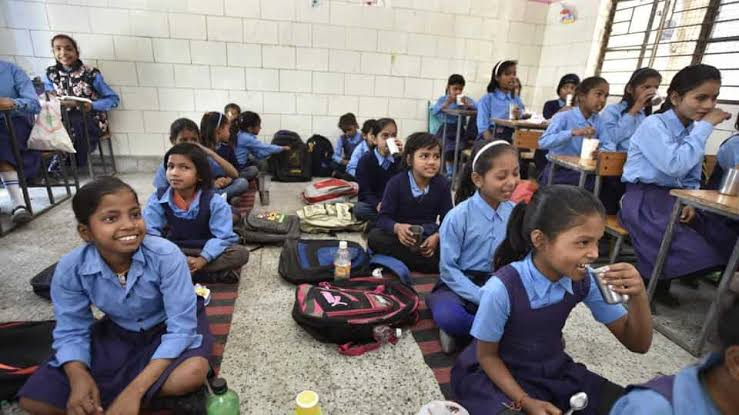student: (523, 177, 611, 282), (66, 178, 153, 251), (671, 64, 736, 128), (470, 137, 526, 206), (398, 127, 446, 184), (160, 145, 212, 195), (232, 109, 282, 161), (570, 71, 614, 116), (626, 66, 666, 113), (164, 116, 204, 159), (199, 104, 232, 149), (372, 117, 405, 162), (550, 67, 586, 105), (490, 57, 525, 95), (42, 34, 81, 67), (446, 71, 475, 110), (335, 111, 364, 149), (357, 118, 377, 152)
